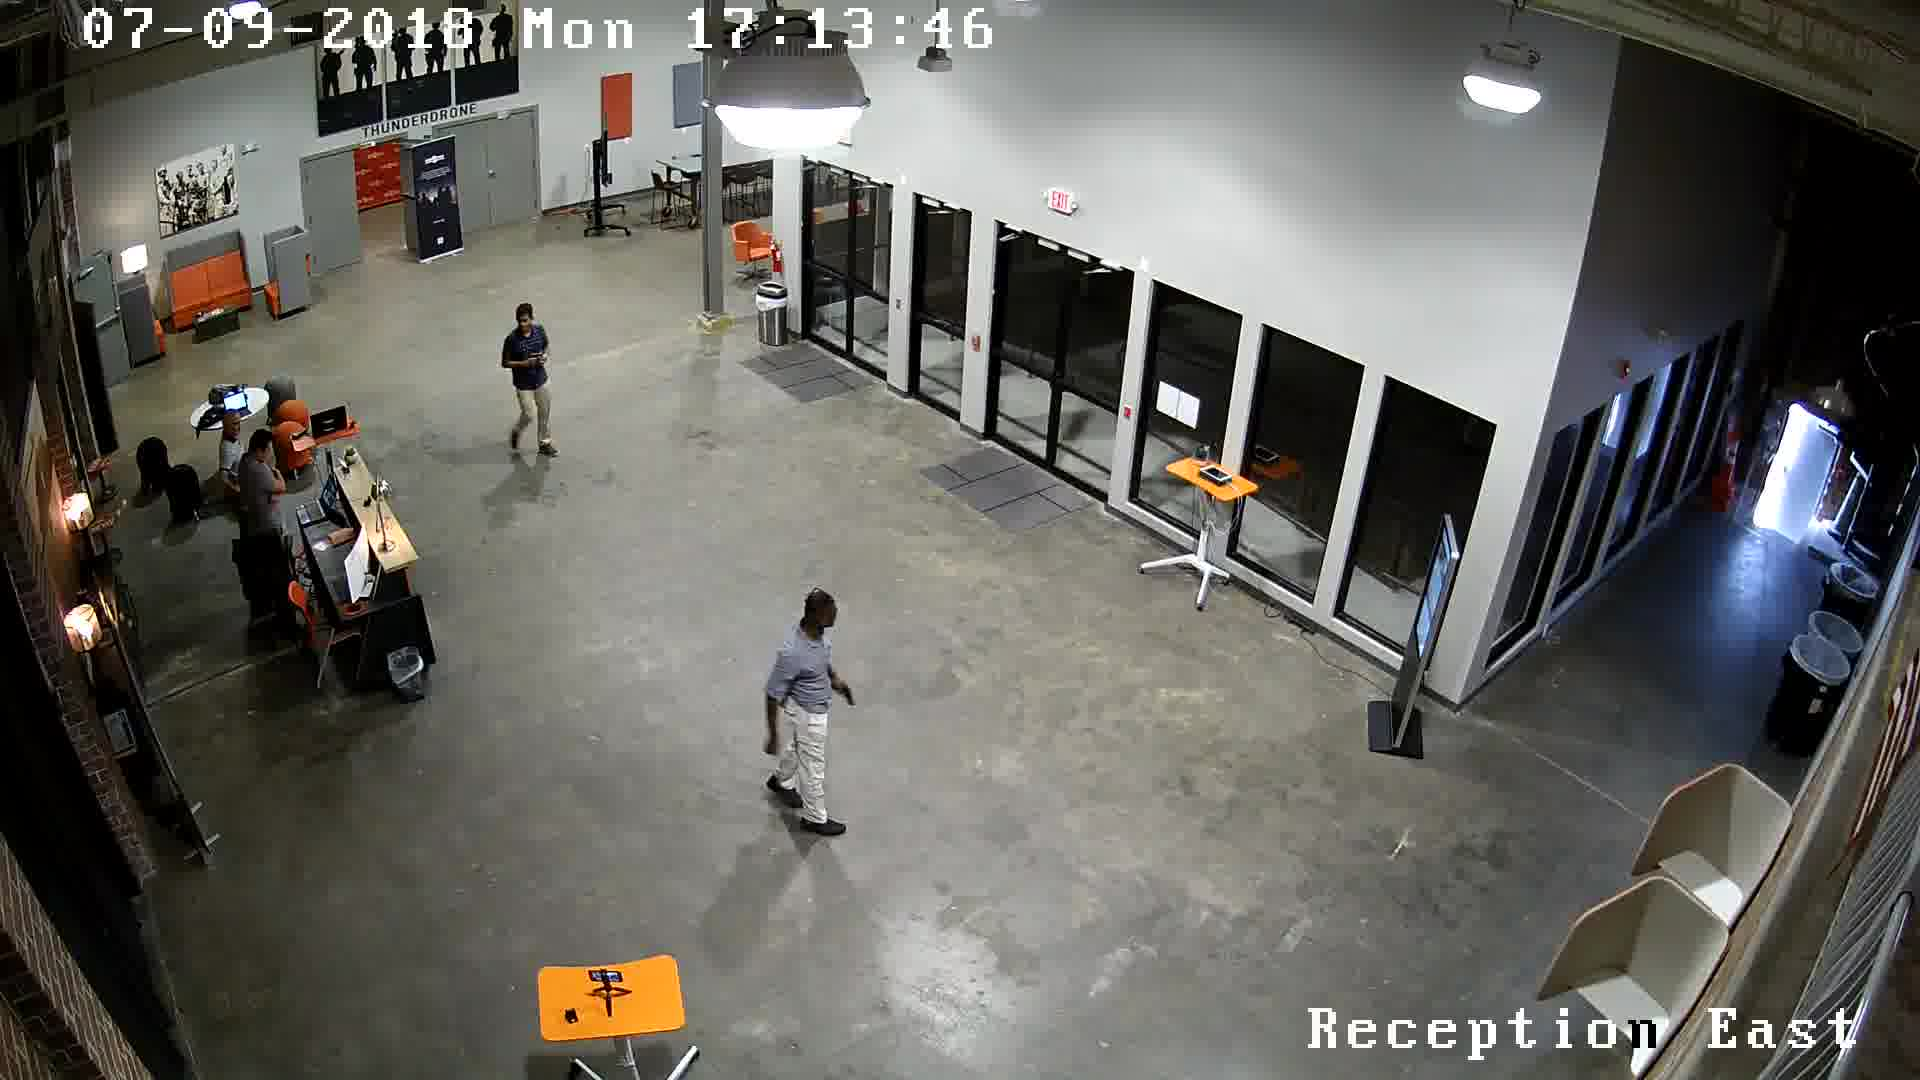pistol: (829, 667, 866, 720)
